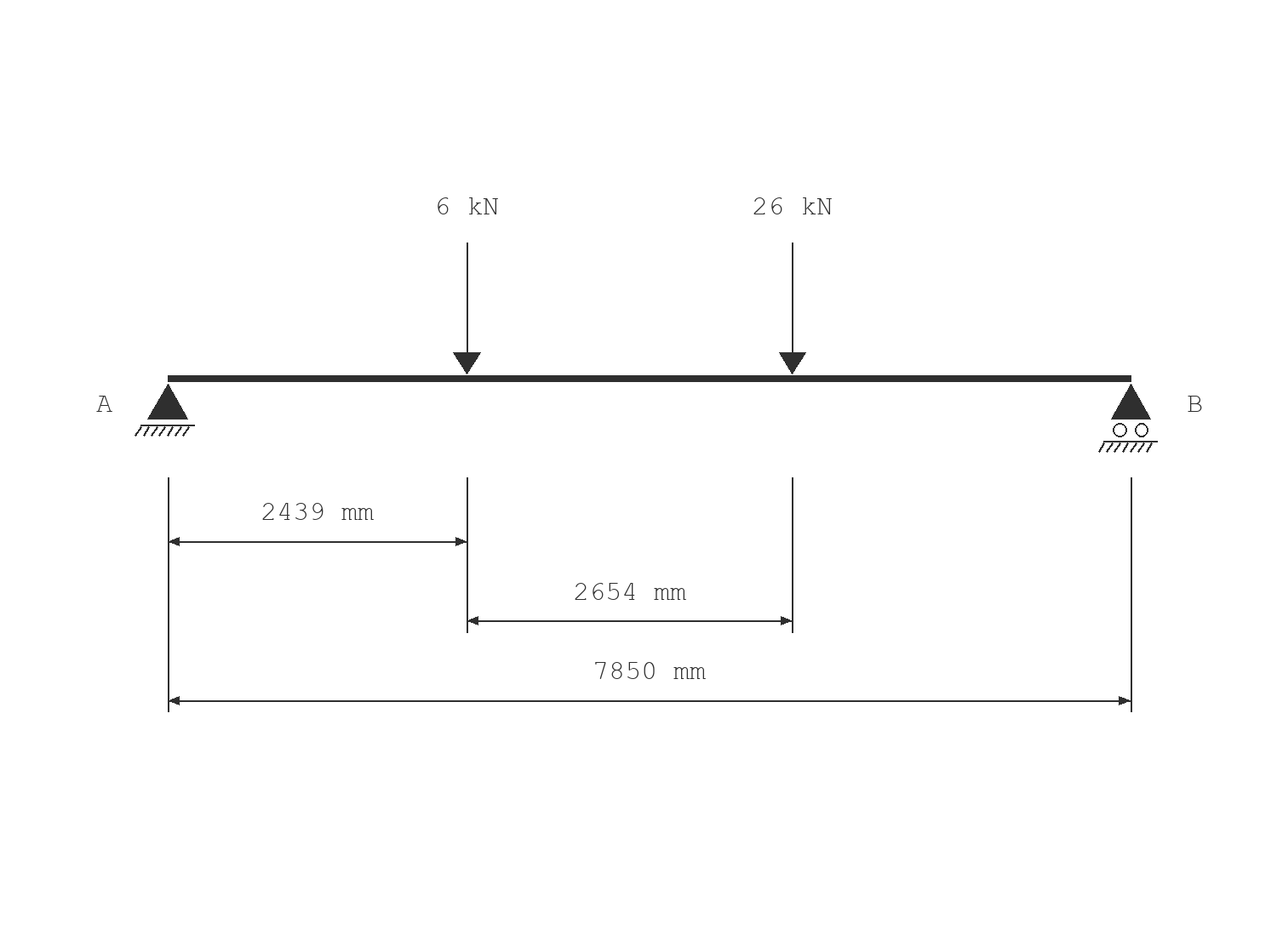pin_support: (135, 384, 195, 437)
point_load: (453, 243, 481, 374), (779, 243, 806, 374)
roller_support: (1098, 384, 1158, 453)
